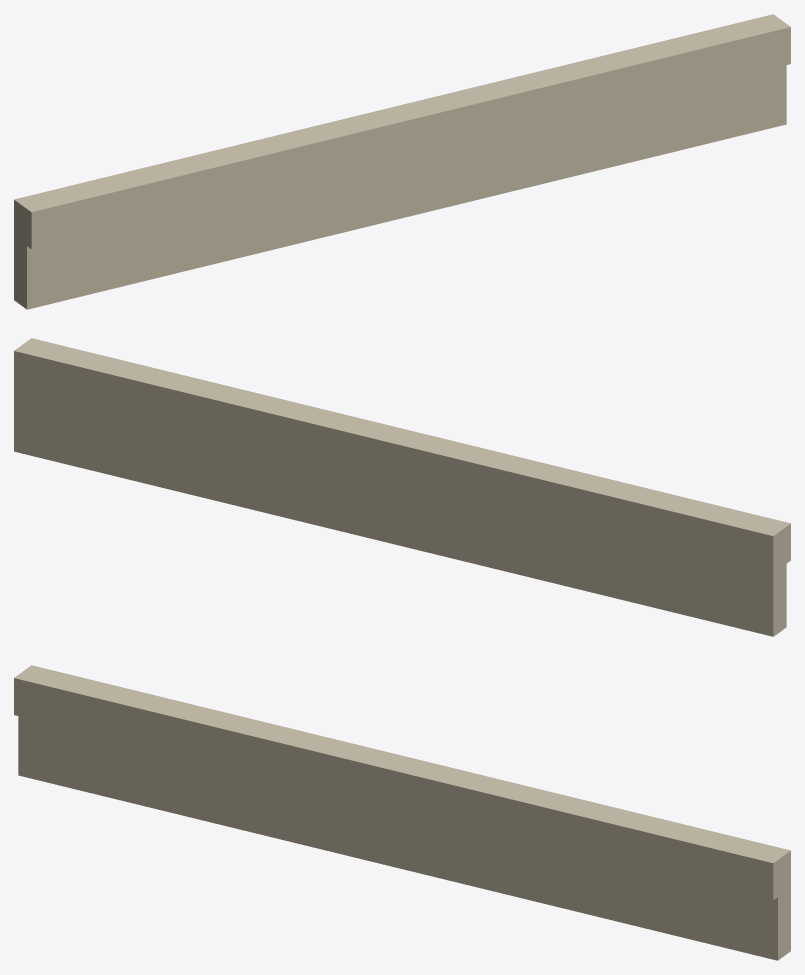
File: band_course.glb
3 views of the same model, one above another, from view 1: azimuth 30°, elevation 25°; view 2: azimuth 150°, elevation 25°; view 3: azimuth 330°, elevation 25° (orthographic).
Visible parts, largest first — view 1: band_course; view 2: band_course; view 3: band_course.
Part boxes in pixels (left/top/right/bottom): band_course: left=14, top=14, right=790, bottom=309; band_course: left=14, top=338, right=790, bottom=636; band_course: left=14, top=665, right=790, bottom=960.
Size of the model in its own units: 1.5 by 0.19 by 0.06.
Materials: 1 (1 with a texture image).
